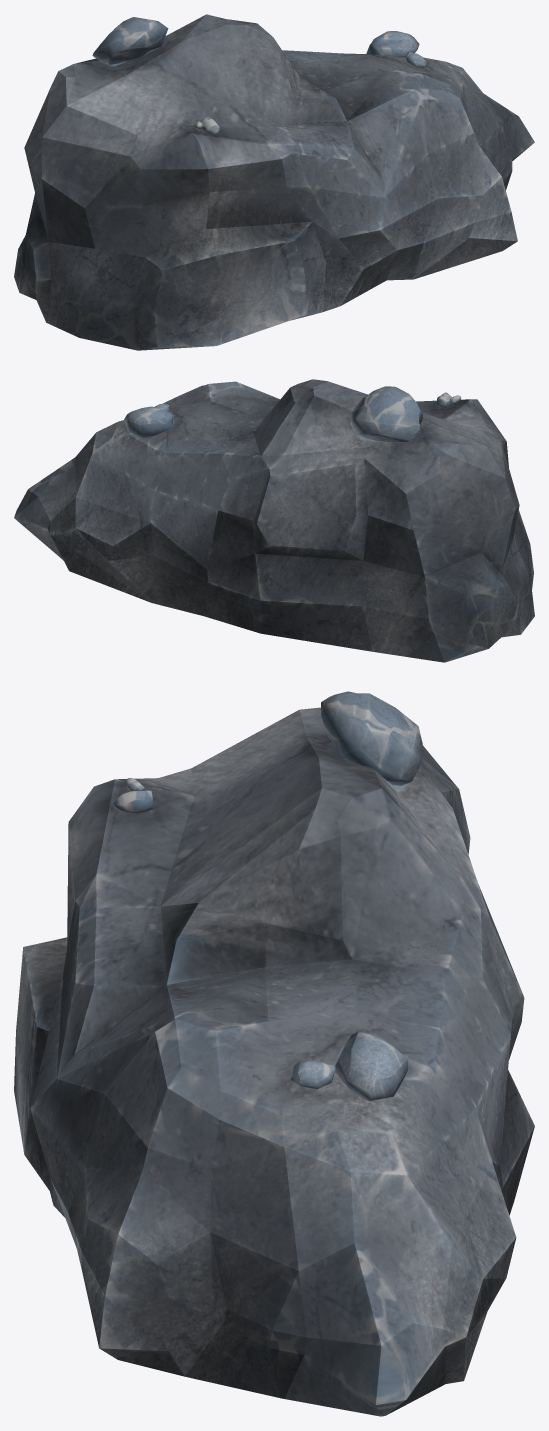
File: rock.fbx
3 renders of one model, top to bottom at view 1: azimuth 30°, elevation 25°; view 2: azimuth 150°, elevation 25°; view 3: azimuth 270°, elevation 25°, orthographic. The views are drawn at different scales.
Visible parts, largest first — view 1: Cube; view 2: Cube; view 3: Cube.
Part boxes in pixels (box(x1,y1,x2,y2)): Cube: box(14, 14, 534, 350); Cube: box(14, 379, 534, 662); Cube: box(14, 691, 534, 1416).
Size of the model in its own units: 1816 by 856 by 929.
